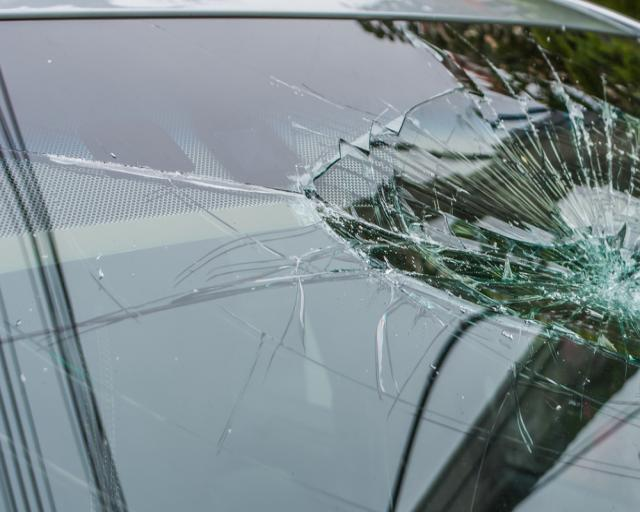glass shatter: (0, 16, 640, 512)
